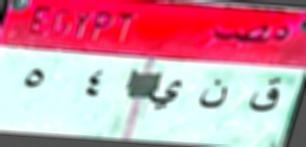4: (73, 66, 116, 103)
5: (12, 59, 59, 97)
noon: (194, 78, 233, 114)
qaaf: (243, 70, 287, 120)
yaa: (148, 75, 188, 112)
